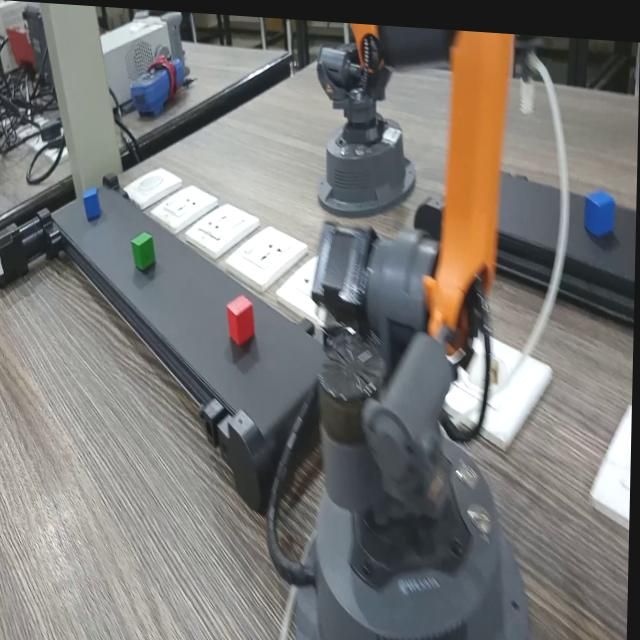cube: (580, 172, 621, 232), (223, 291, 260, 344), (127, 221, 160, 271), (80, 179, 106, 227)
